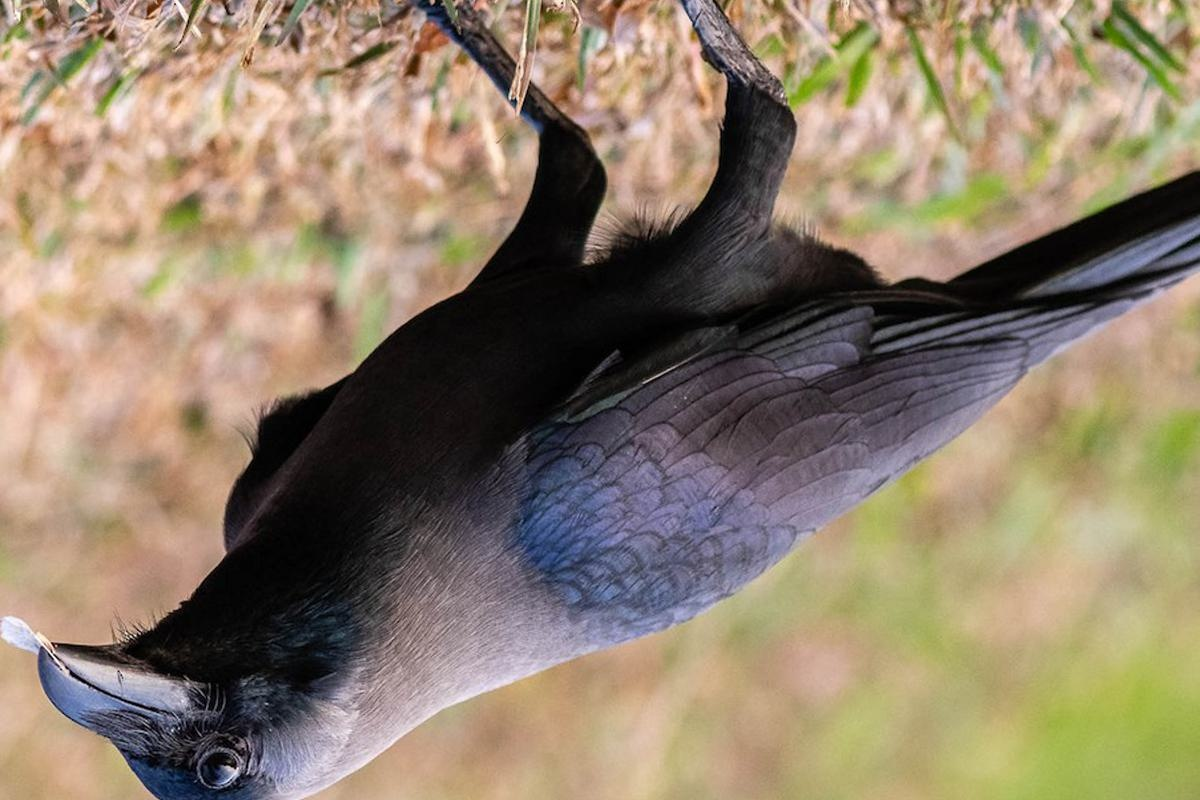crow: (30, 28, 1193, 799)
